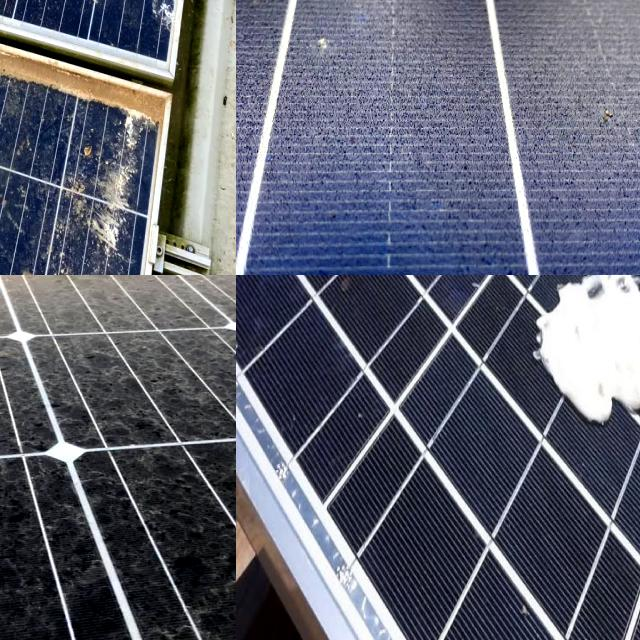bird: (529, 275, 640, 438), (85, 84, 149, 253), (114, 0, 181, 114), (0, 184, 82, 275), (24, 0, 143, 51), (0, 0, 84, 65), (0, 135, 72, 199), (0, 56, 61, 128), (0, 0, 43, 40), (0, 0, 43, 35)
dust: (80, 450, 236, 640), (0, 451, 155, 640), (0, 329, 149, 469), (95, 323, 236, 449), (33, 275, 236, 320), (44, 275, 236, 317), (0, 275, 135, 327), (0, 275, 112, 323), (0, 275, 134, 294)
